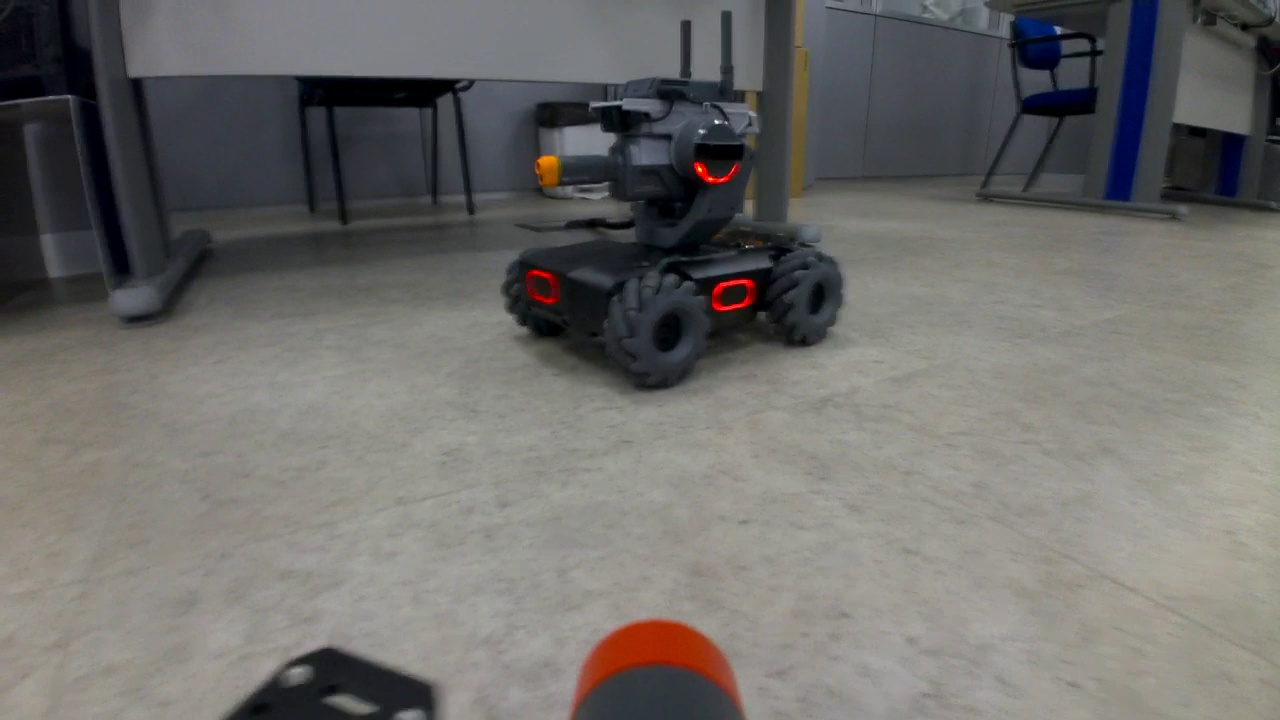robot: (498, 75, 845, 398)
